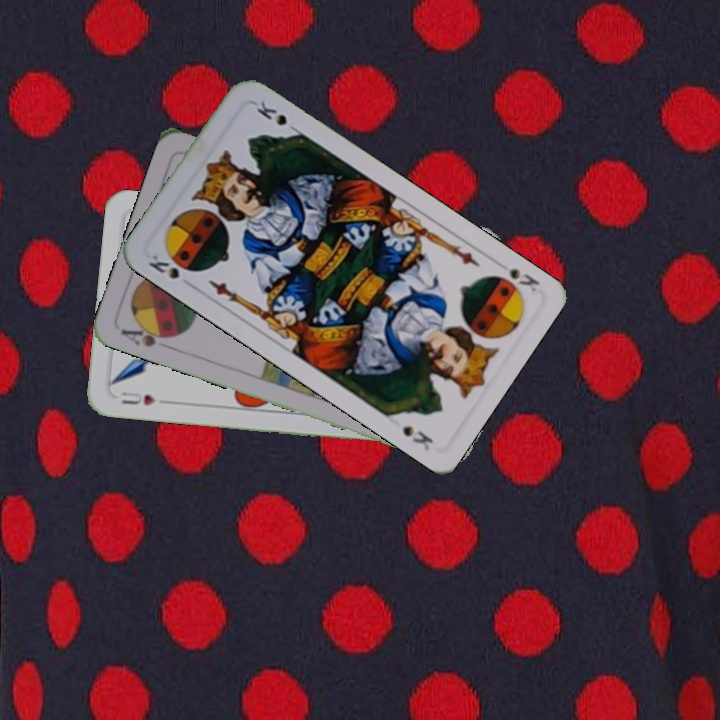HU: (117, 387, 170, 408)
SA: (116, 319, 177, 352)
SK: (144, 250, 196, 282), (504, 264, 543, 295)
